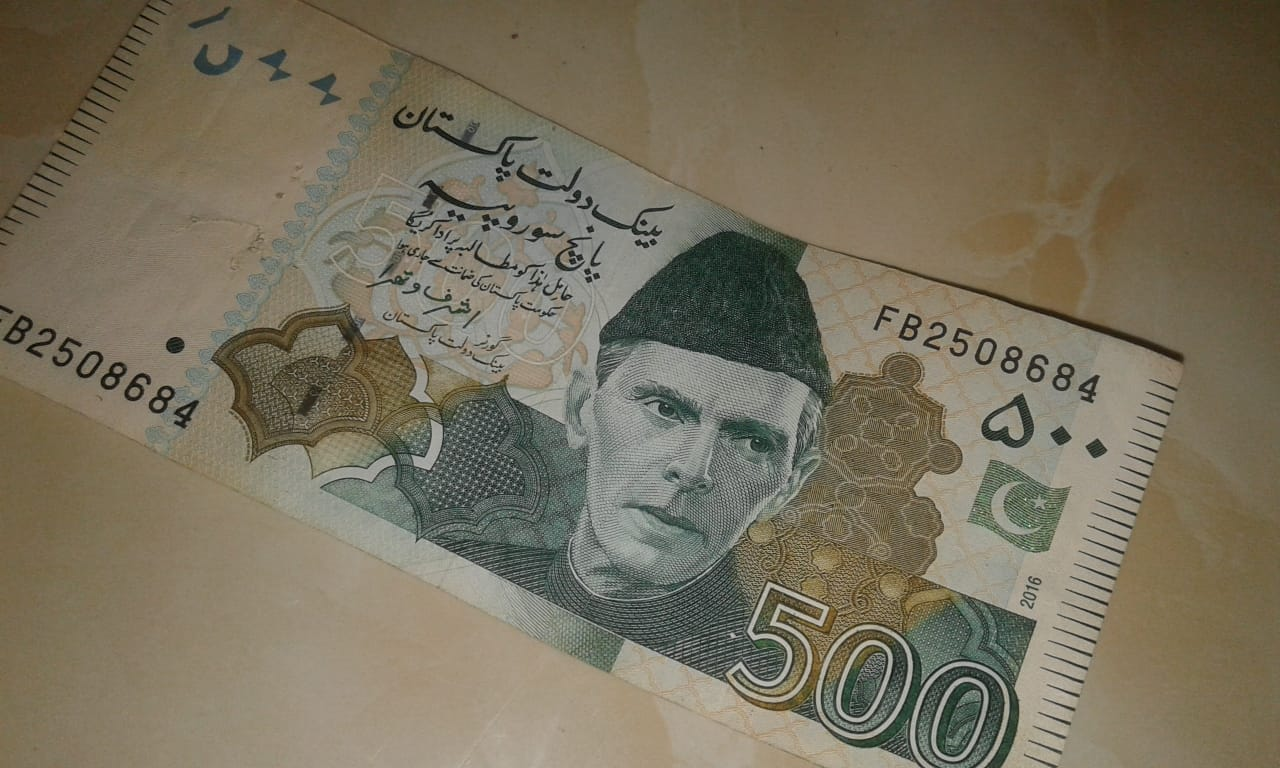500 rupee: (13, 27, 1252, 767)
